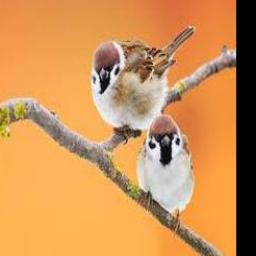Sparrow: (92, 26, 196, 145), (136, 113, 195, 235)
